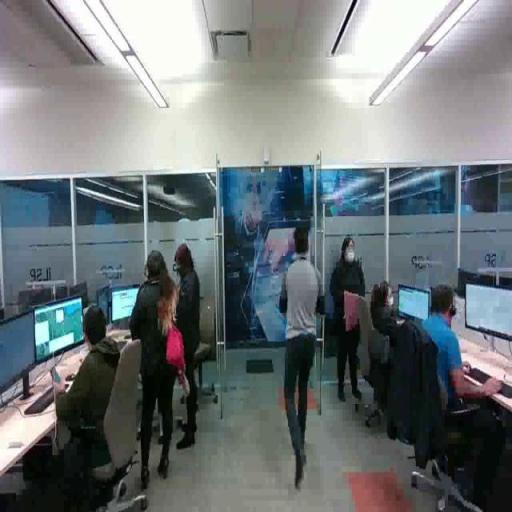person: (10, 309, 137, 512), (407, 282, 512, 467), (280, 229, 325, 488), (133, 251, 179, 488), (332, 237, 369, 401), (366, 273, 422, 374), (175, 246, 201, 452)
